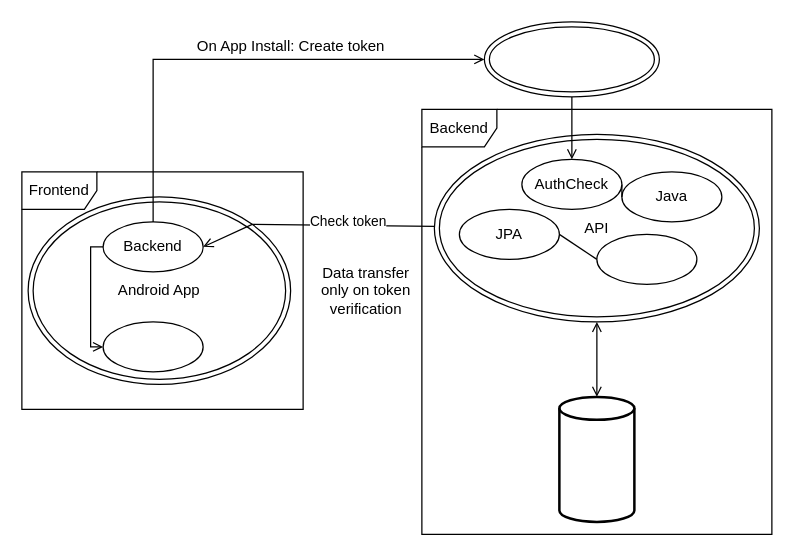
This 794x556 diagram has some shape labels left out. Each missing label, with the centre of its shape:
"Database" goes at (596,458).
"Fronend" goes at (152,346).
"Google OAuth" goes at (571,59).
"Tomcat" goes at (646,258).
